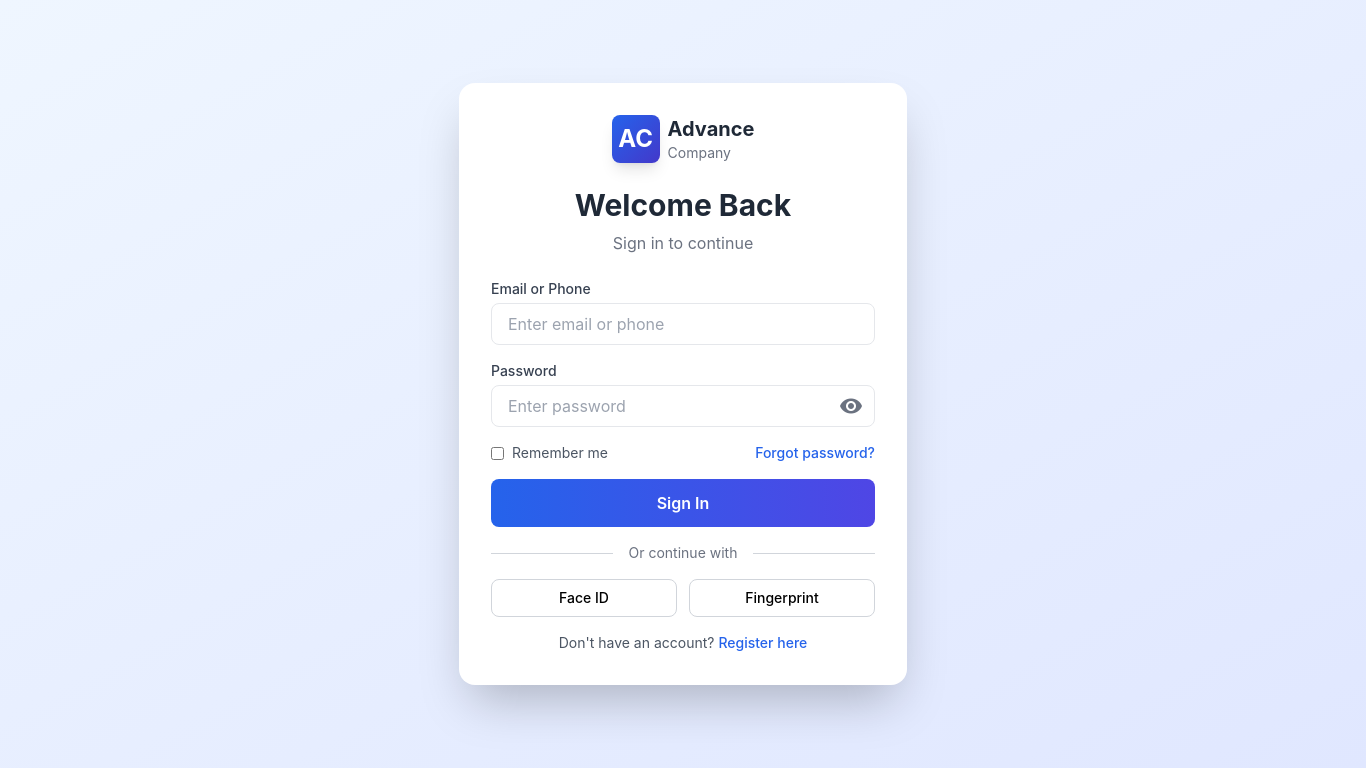
Test case: Login Page › shows error toast on wrong credentials
The image size is (1366, 768).
In the field with test id "email-input": (683, 324) [491,303,875,345], type "test@example.com"
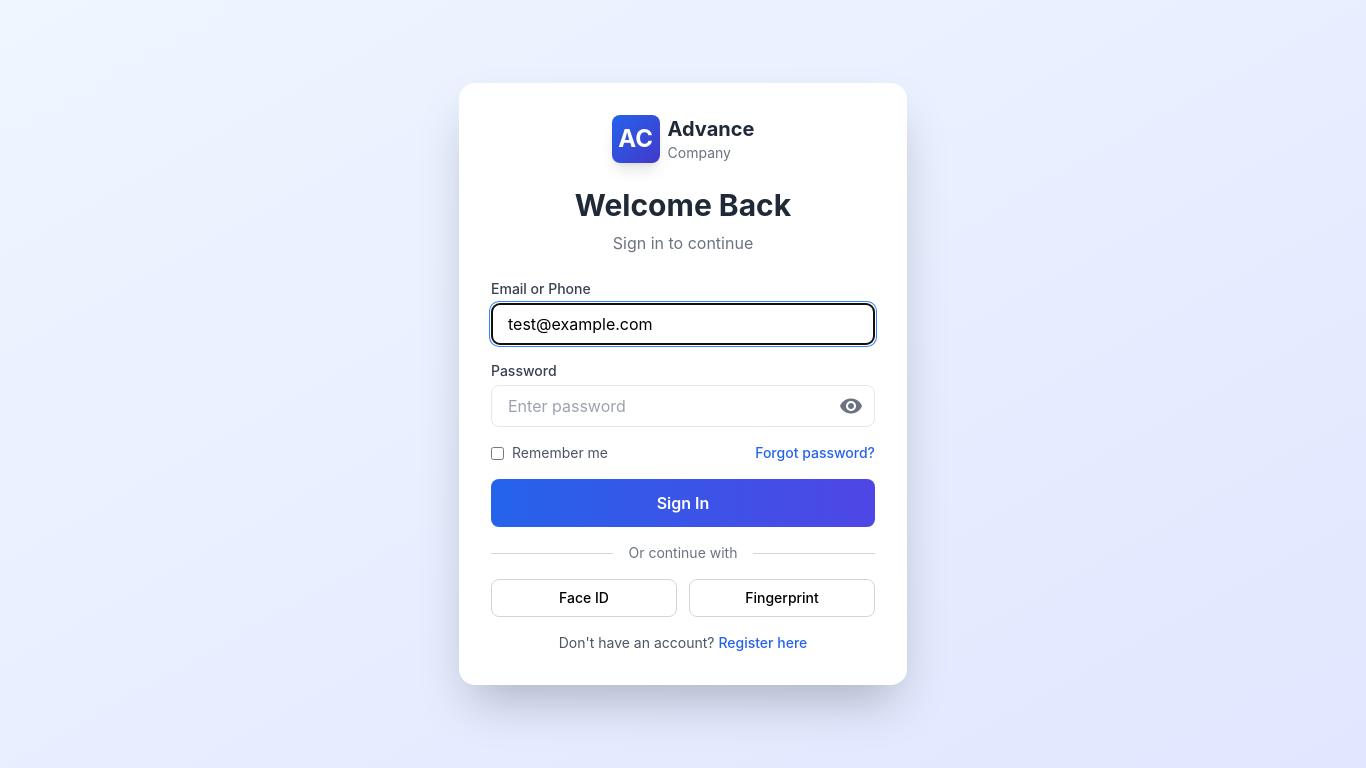
In the password field with test id "password-input": (683, 406) [491,385,875,427], type "WrongPassword!"
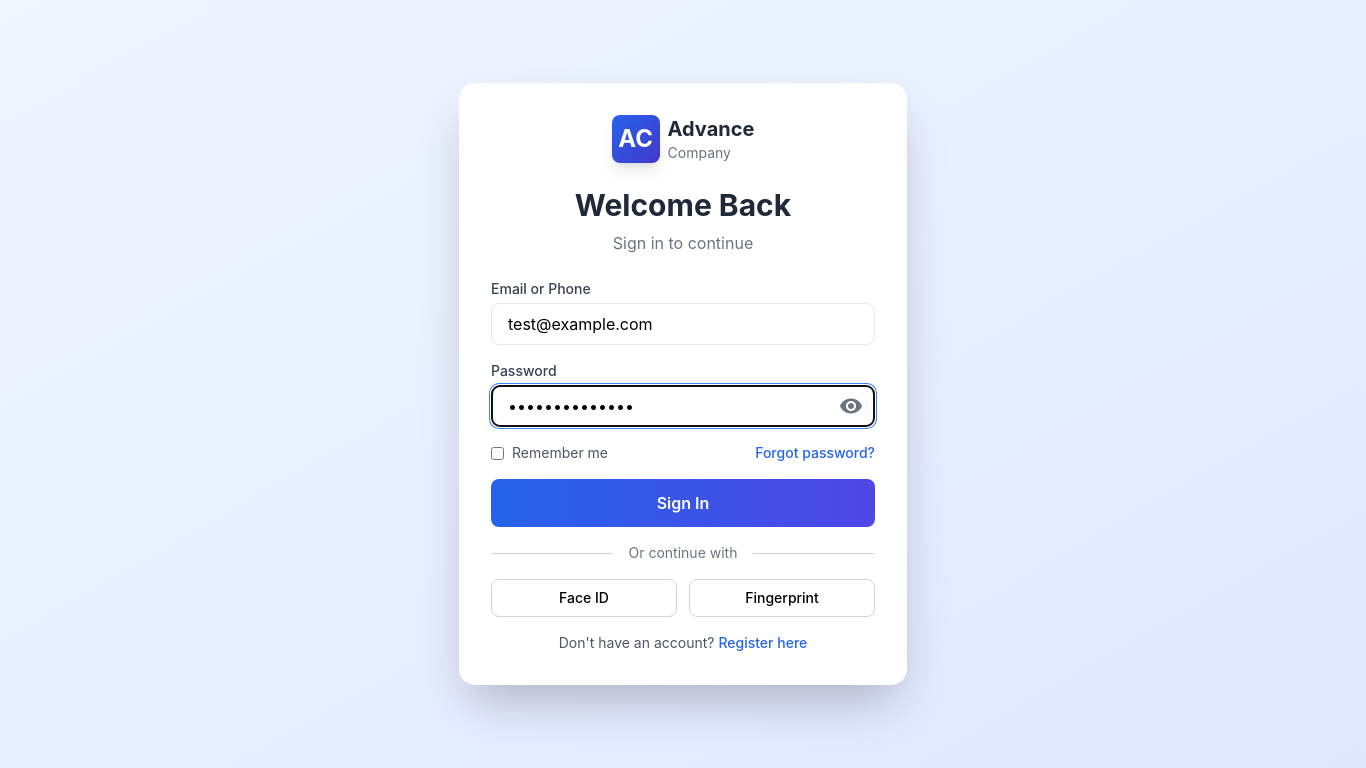
Click the button with test id "login-btn": click(683, 503) [491,479,875,527]
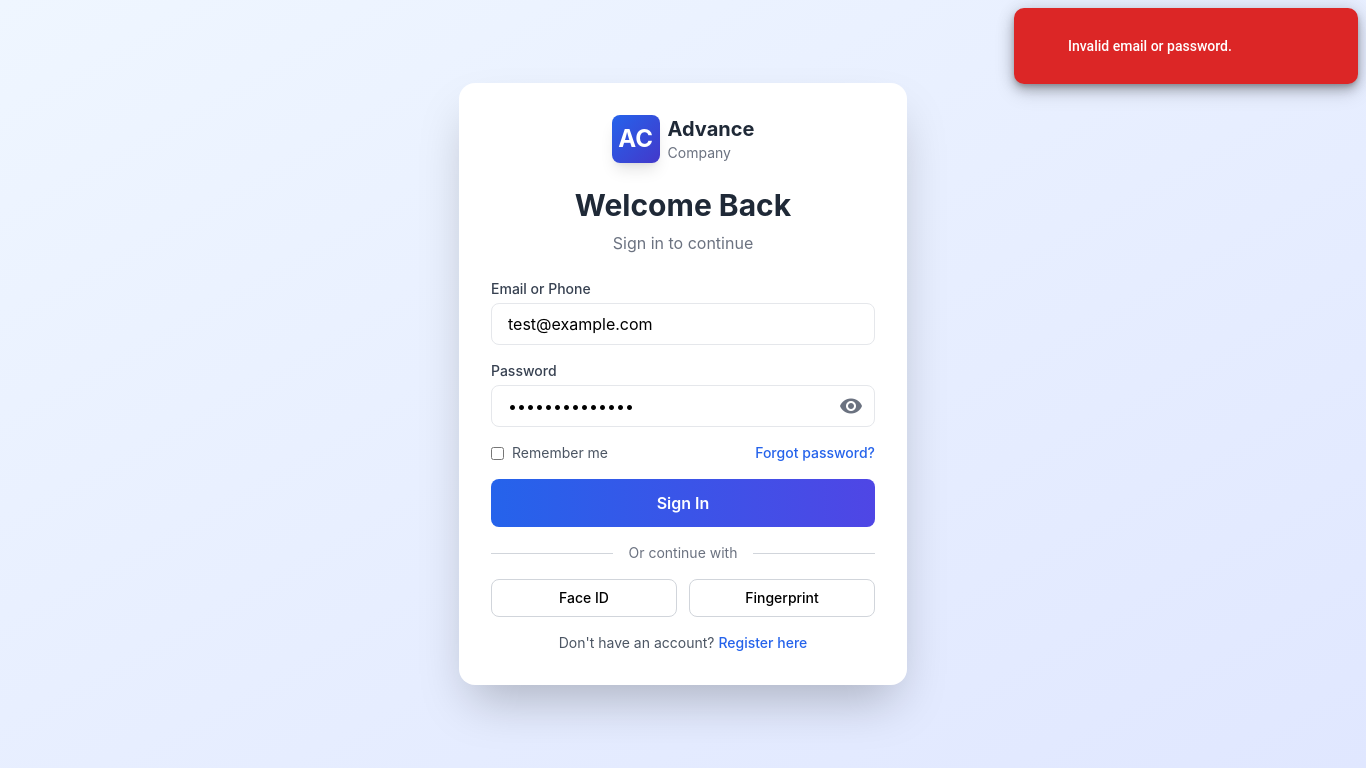
Check: the text "Invalid" is shown
